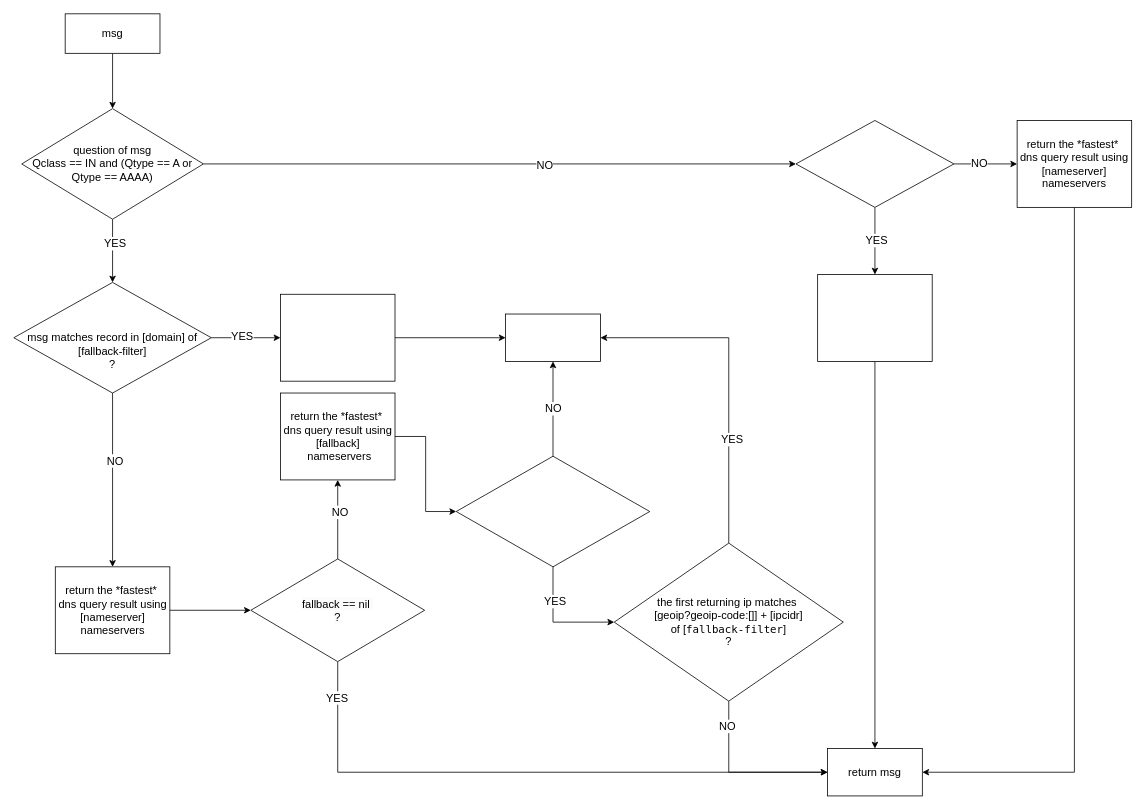
The diagram is 1146 pixels wide and 810 high, and some of its shapes have lost their labels. The centre of each missing label's shape, as x and y in pixels:
domain in msg matches [nameserver-policy]: the point at 874,163
return fallback msg: the point at 552,337
return the *fastest* dns query result using [fallback] nameservers: the point at 337,337
return the *fastest* dns query result using [nameserver-policy] nameservers: the point at 874,317
returning ip > 0 ?: the point at 552,511
